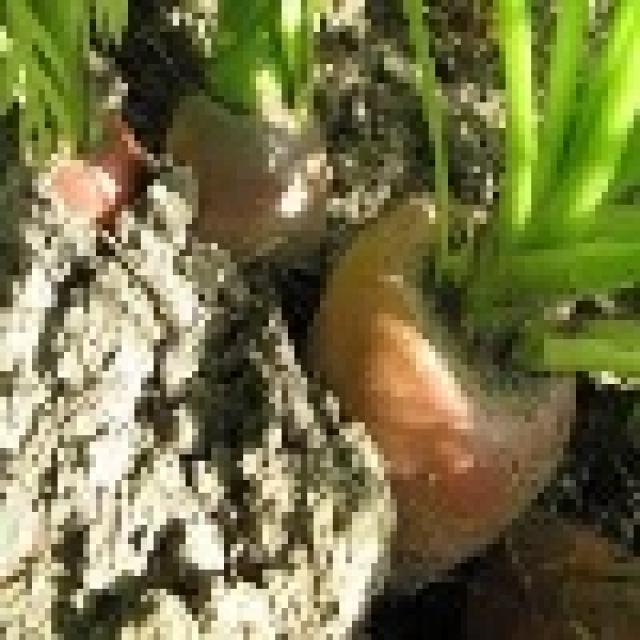Stale_Carrot: (77, 98, 512, 551)
